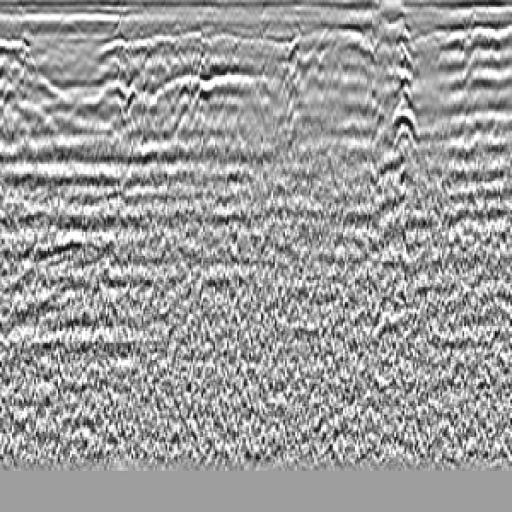non-metallic: (357, 19, 439, 223)
